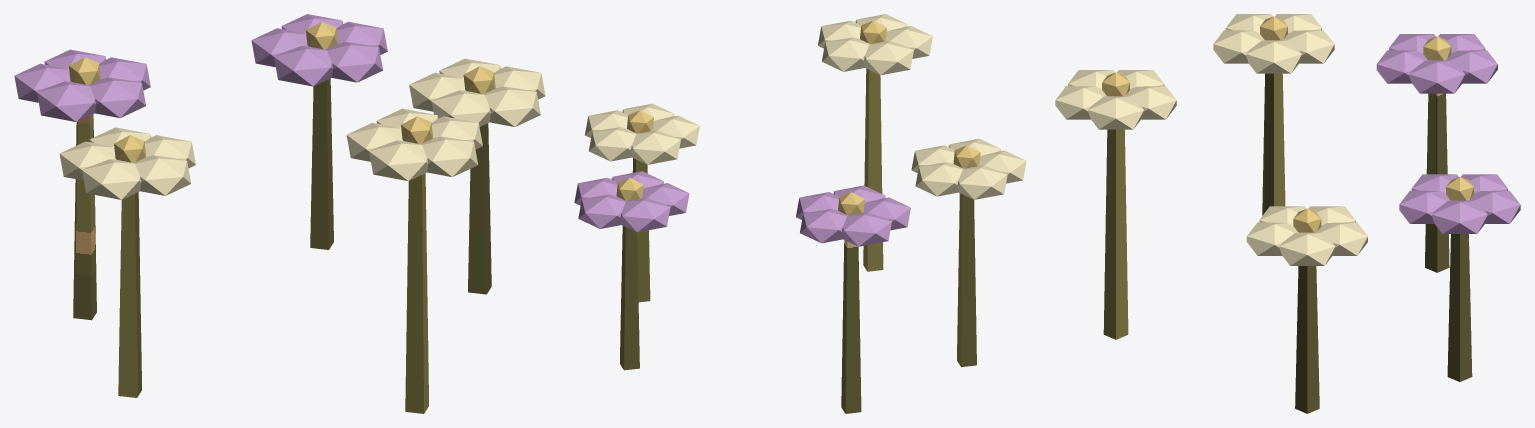
Rendered from enfeite_flores.glb.
3 renders of one model, left to right at view 1: azimuth 30°, elevation 25°; view 2: azimuth 150°, elevation 25°; view 3: azimuth 270°, elevation 25°, orthographic. The views are drawn at different scales.
Parts seen in each view (by area): view 1: deserto_enfeite_flores; view 2: deserto_enfeite_flores; view 3: deserto_enfeite_flores.
Part boxes in pixels (x1,y1,x2,y2): deserto_enfeite_flores: [14, 14, 545, 413]; deserto_enfeite_flores: [574, 14, 1026, 413]; deserto_enfeite_flores: [1055, 14, 1520, 413].
Size of the model in its own units: 0.366 by 0.211 by 0.339.
4 materials, 1 textured.
